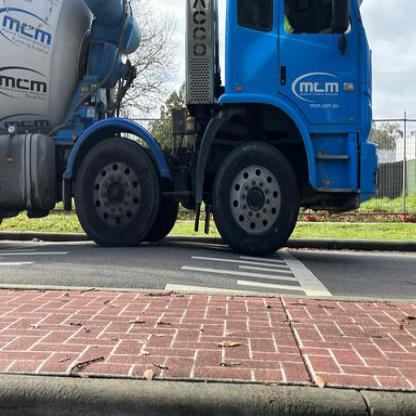Tire: (213, 140, 300, 257), (72, 137, 160, 248)
